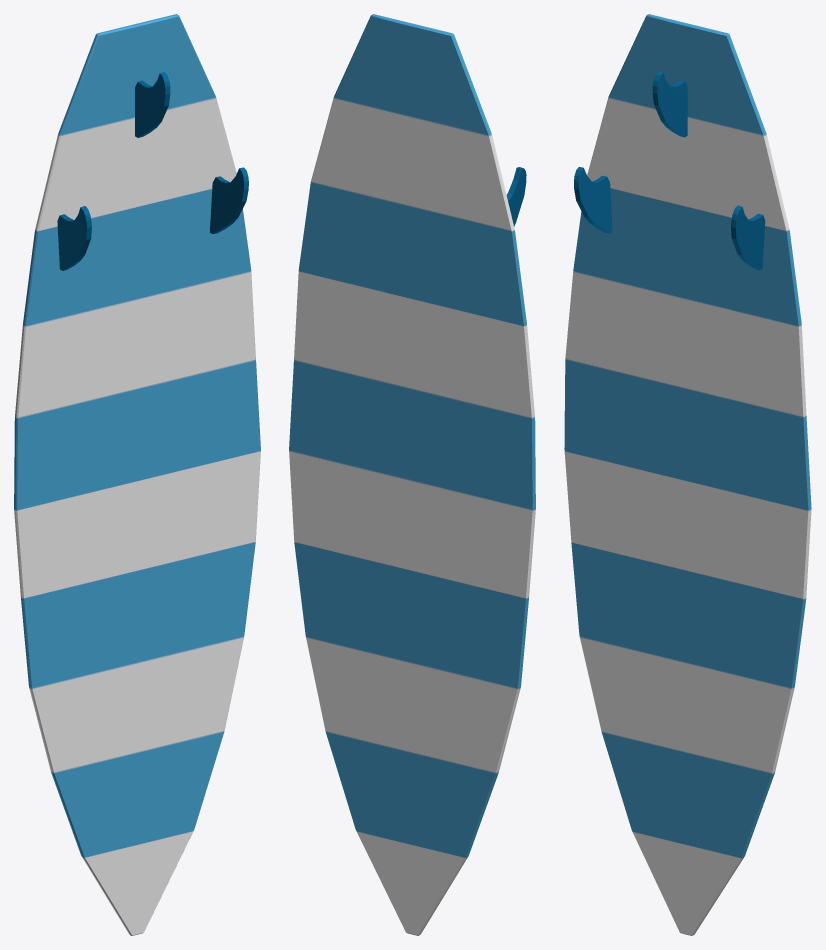
Rendered from SurfboardBlue.fbx.
3 renders of one model, left to right at view 1: azimuth 30°, elevation 25°; view 2: azimuth 150°, elevation 25°; view 3: azimuth 330°, elevation 25°, orthographic.
Parts seen in each view (by area): view 1: surfingBoard; view 2: surfingBoard; view 3: surfingBoard.
Boxes of the visible parts, x1,y1,x2,y2 form: surfingBoard: [14, 14, 260, 935]; surfingBoard: [289, 14, 535, 935]; surfingBoard: [564, 14, 811, 935].
Bounding box in the file's own units: 1.36 × 4.8 × 0.3174.
